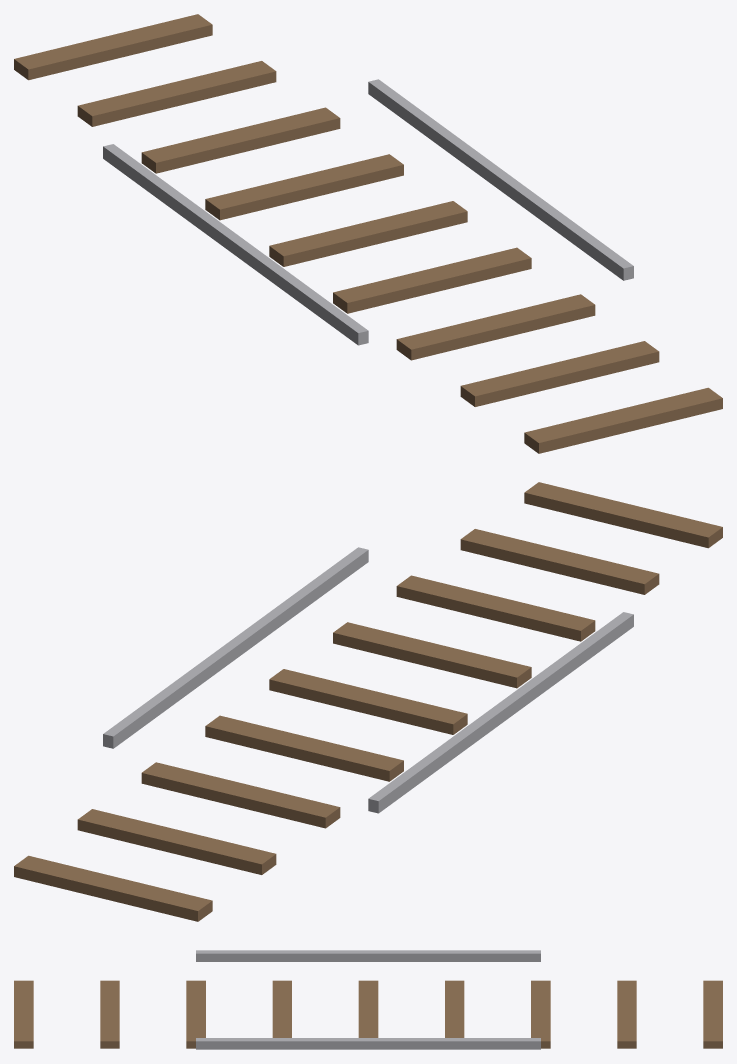
File: rail_segment.glb
3 renders of one model, top to bottom at view 1: azimuth 30°, elevation 25°; view 2: azimuth 150°, elevation 25°; view 3: azimuth 270°, elevation 25°, orthographic. The views are drawn at different scales.
Visible parts, largest first — view 1: RailR, RailL, Tie2, Tie6, Tie1, Tie7, Tie0, Tie4, Tie8, Tie3, Tie5; view 2: RailR, RailL, Tie2, Tie6, Tie1, Tie7, Tie0, Tie4, Tie8, Tie3, Tie5; view 3: RailL, RailR, Tie0, Tie1, Tie7, Tie8, Tie2, Tie6, Tie4, Tie3, Tie5.
Boxes of the visible parts, x1,y1,x2,y2 form: RailR: [368, 79, 633, 280]; RailL: [103, 144, 368, 345]; Tie2: [396, 294, 595, 360]; Tie6: [141, 107, 340, 173]; Tie1: [460, 341, 659, 406]; Tie7: [77, 61, 276, 126]; Tie0: [524, 387, 722, 453]; Tie4: [269, 201, 467, 266]; Tie8: [14, 14, 212, 80]; Tie3: [333, 247, 531, 313]; Tie5: [205, 154, 403, 220]; RailR: [103, 547, 368, 748]; RailL: [368, 612, 633, 813]; Tie2: [396, 575, 595, 641]; Tie6: [141, 762, 340, 828]; Tie1: [460, 529, 659, 594]; Tie7: [77, 809, 276, 874]; Tie0: [524, 482, 722, 548]; Tie4: [269, 669, 467, 734]; Tie8: [14, 855, 212, 921]; Tie3: [333, 622, 531, 688]; Tie5: [205, 715, 403, 781]; RailL: [196, 950, 540, 961]; RailR: [196, 1038, 540, 1049]; Tie0: [14, 980, 33, 1048]; Tie1: [100, 980, 119, 1048]; Tie7: [617, 980, 636, 1048]; Tie8: [703, 980, 722, 1048]; Tie2: [186, 980, 205, 1048]; Tie6: [531, 980, 550, 1048]; Tie4: [358, 980, 378, 1037]; Tie3: [272, 980, 291, 1037]; Tie5: [445, 980, 464, 1037].
Size of the model in its own units: 1.87 by 0.215 by 6.17.
